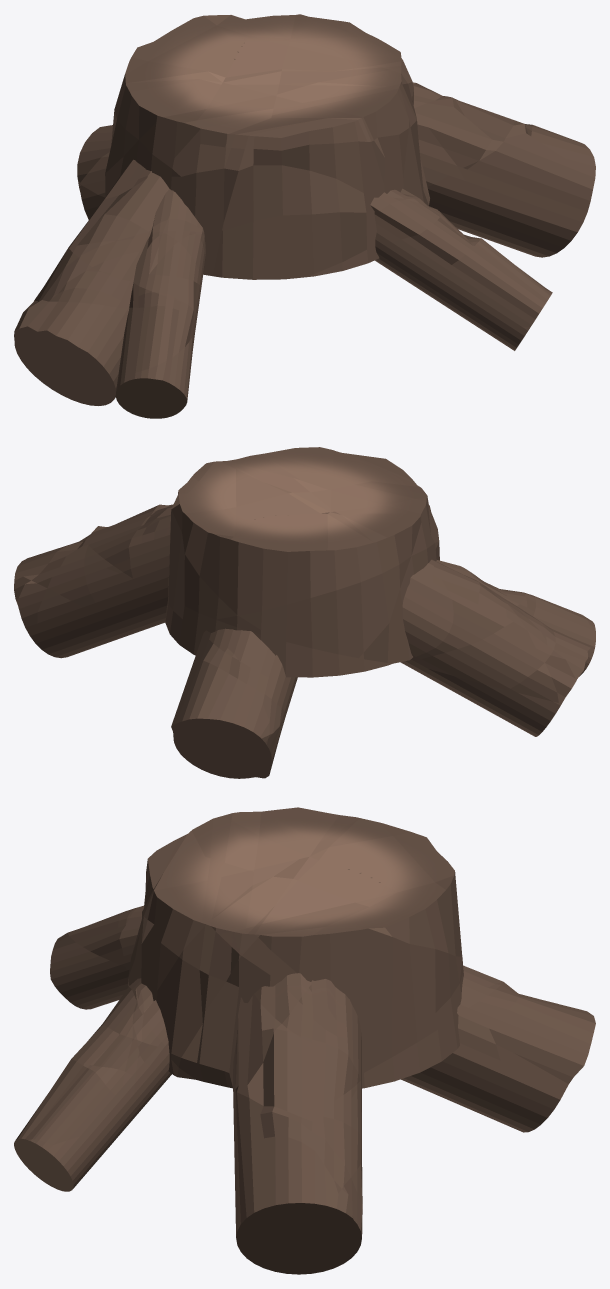
The model's file is Stump.obj.
3 views of the same model, one above another, from view 1: azimuth 30°, elevation 25°; view 2: azimuth 150°, elevation 25°; view 3: azimuth 270°, elevation 25° (orthographic). The views are drawn at different scales.
Visible parts, largest first — view 1: Cylinder.002; view 2: Cylinder.002; view 3: Cylinder.002.
Part boxes in pixels (left/top/right/bottom): Cylinder.002: left=14, top=14, right=595, bottom=418; Cylinder.002: left=14, top=447, right=595, bottom=778; Cylinder.002: left=14, top=807, right=595, bottom=1274.
Size of the model in its own units: 7.18 by 2.8 by 5.54.
